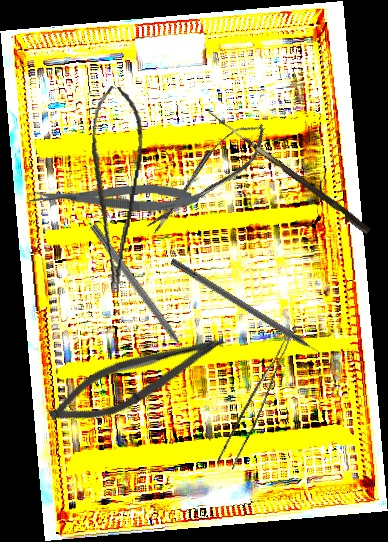Hook Surgical: (202, 110, 373, 235), (169, 257, 336, 366), (88, 222, 194, 364)
Micro Scissor: (41, 312, 232, 442), (135, 113, 277, 242), (70, 84, 152, 294), (28, 179, 201, 214)
Tissue Forceps: (216, 323, 294, 472)
